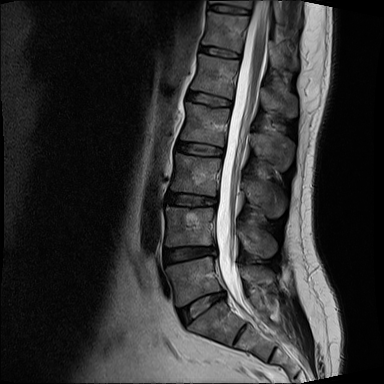Lumbar Disc Bulge (LDB): (170, 274, 234, 334), (154, 233, 223, 271)
Normal IVD: (158, 185, 220, 211), (169, 134, 228, 161), (181, 84, 234, 110), (195, 40, 244, 63), (200, 2, 253, 14)
Spinal Stenosis (SS): (205, 280, 229, 314), (203, 236, 222, 265)
